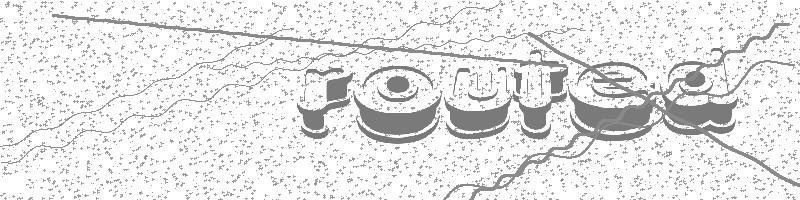d: (661, 49, 738, 133)
e: (569, 62, 653, 142)
o: (354, 66, 441, 144)
r: (298, 68, 354, 139)
t: (513, 50, 569, 139)
u: (444, 66, 513, 140)
